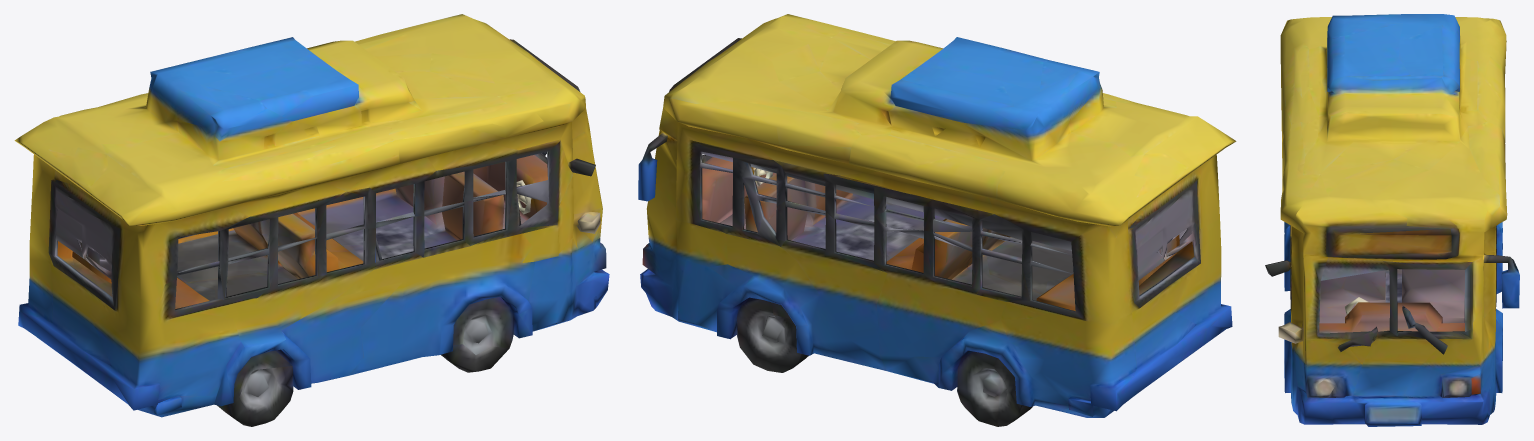
Rendered from onibus.glb.
3 renders of one model, left to right at view 1: azimuth 30°, elevation 25°; view 2: azimuth 150°, elevation 25°; view 3: azimuth 270°, elevation 25°, orthographic. The views are drawn at different scales.
Visible parts, largest first — view 1: tripo_node_f3ae3e86-2ca8-4c1f-8cf2-b754de7e5038; view 2: tripo_node_f3ae3e86-2ca8-4c1f-8cf2-b754de7e5038; view 3: tripo_node_f3ae3e86-2ca8-4c1f-8cf2-b754de7e5038.
Boxes of the visible parts, x1,y1,x2,y2 form: tripo_node_f3ae3e86-2ca8-4c1f-8cf2-b754de7e5038: [14, 14, 609, 426]; tripo_node_f3ae3e86-2ca8-4c1f-8cf2-b754de7e5038: [638, 14, 1236, 426]; tripo_node_f3ae3e86-2ca8-4c1f-8cf2-b754de7e5038: [1265, 14, 1519, 426].
Size of the model in its own units: 1 by 0.5784 by 0.4839.
Materials: 1 (1 with a texture image).
